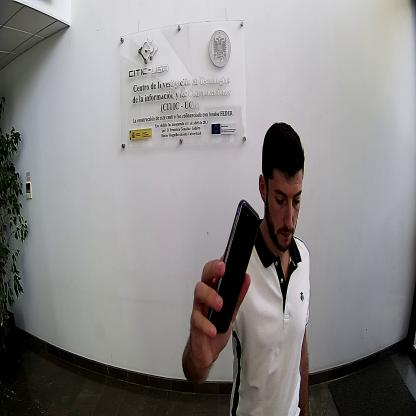smartphone: (205, 198, 260, 335)
